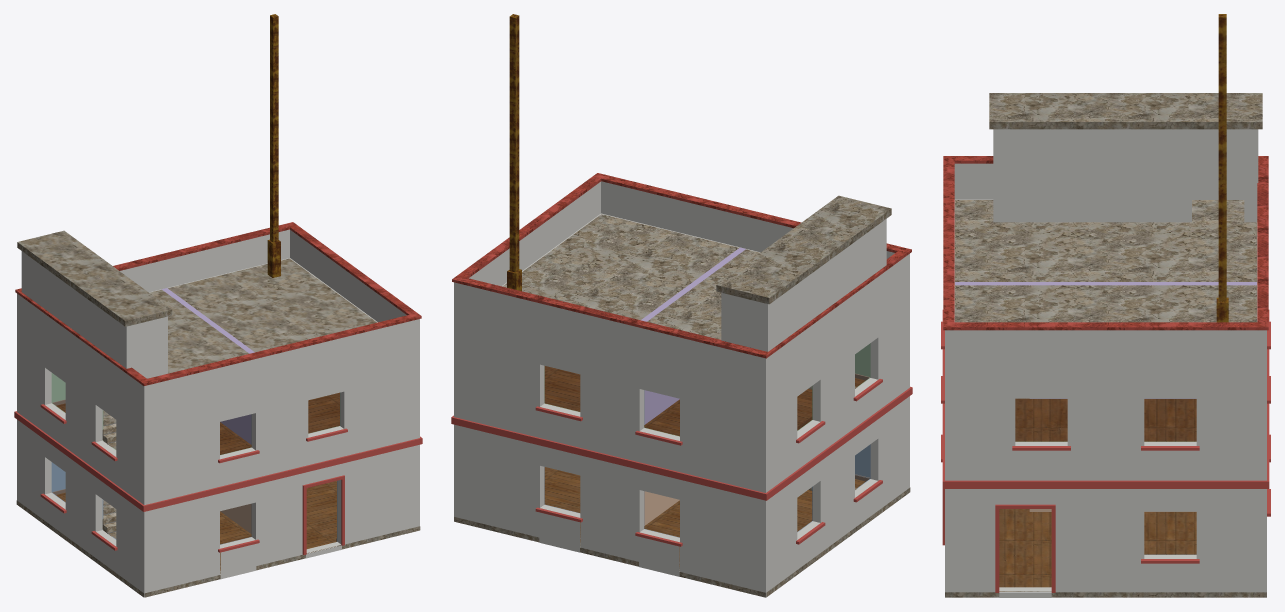
Rendered from coastguard-station.windows-v1.lod0.glb.
3 renders of one model, left to right at view 1: azimuth 30°, elevation 25°; view 2: azimuth 150°, elevation 25°; view 3: azimuth 270°, elevation 25°, orthographic. The views are drawn at different scales.
Parts seen in each view (by area): view 1: coastguard-station; view 2: coastguard-station; view 3: coastguard-station.
Part boxes in pixels (box(x1,y1,x2,y2)): coastguard-station: box(14, 14, 422, 597); coastguard-station: box(451, 14, 912, 597); coastguard-station: box(941, 14, 1270, 597).
Size of the model in its own units: 10.2 by 15.37 by 8.2.
4 materials, 3 textured.
